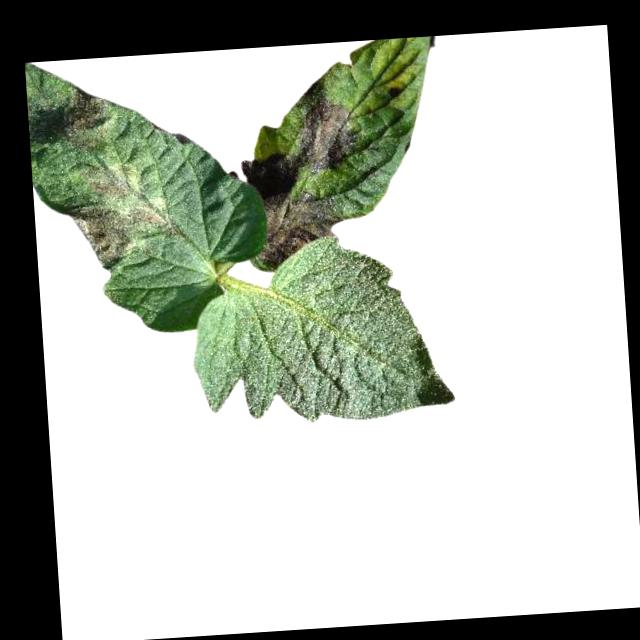Late_blight: (236, 94, 364, 196), (70, 203, 169, 271), (258, 188, 337, 263), (63, 81, 112, 142), (82, 162, 142, 210)
healthy: (185, 229, 457, 430)
